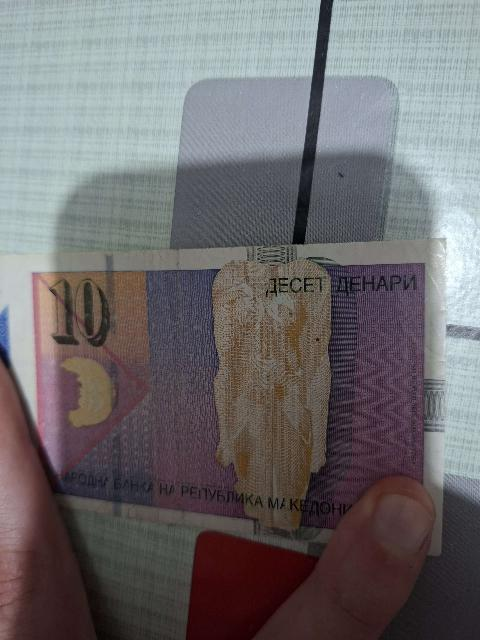10_note: (0, 241, 451, 550)
